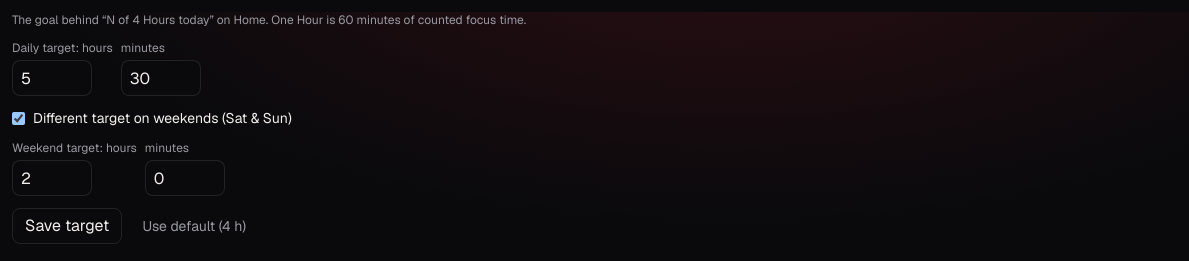
it: FocusTargetSettings › 'Use default' clears both targets (null), and resets the fields
Click the button "Use default (4 h)": click(194, 226) [130,208,258,244]
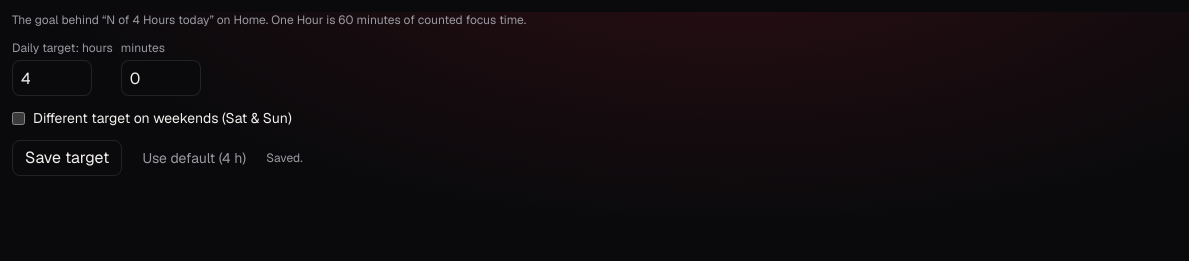
Expected: the number field named "Daily target hours" holds "4", [12,60,92,96]
